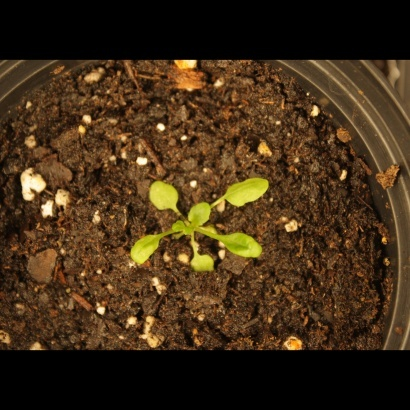leaf: (221, 177, 275, 212), (217, 229, 269, 263), (128, 234, 171, 266), (146, 178, 181, 217), (190, 247, 220, 282), (188, 201, 214, 230)
